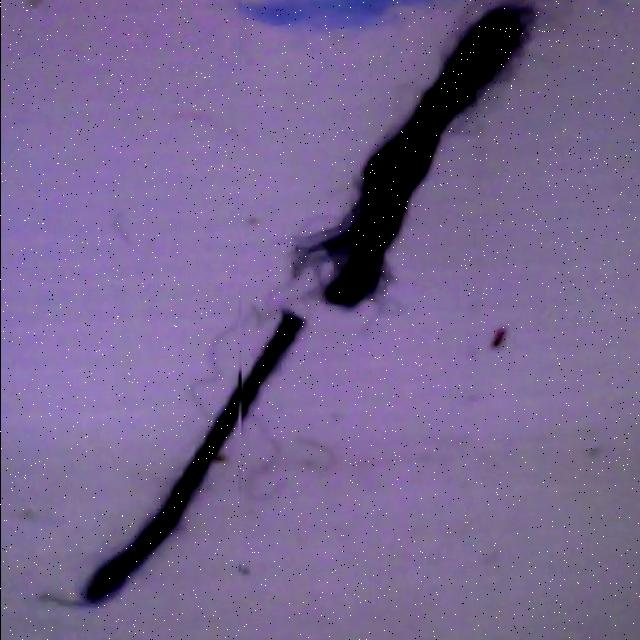Fibre: (36, 312, 320, 614)
